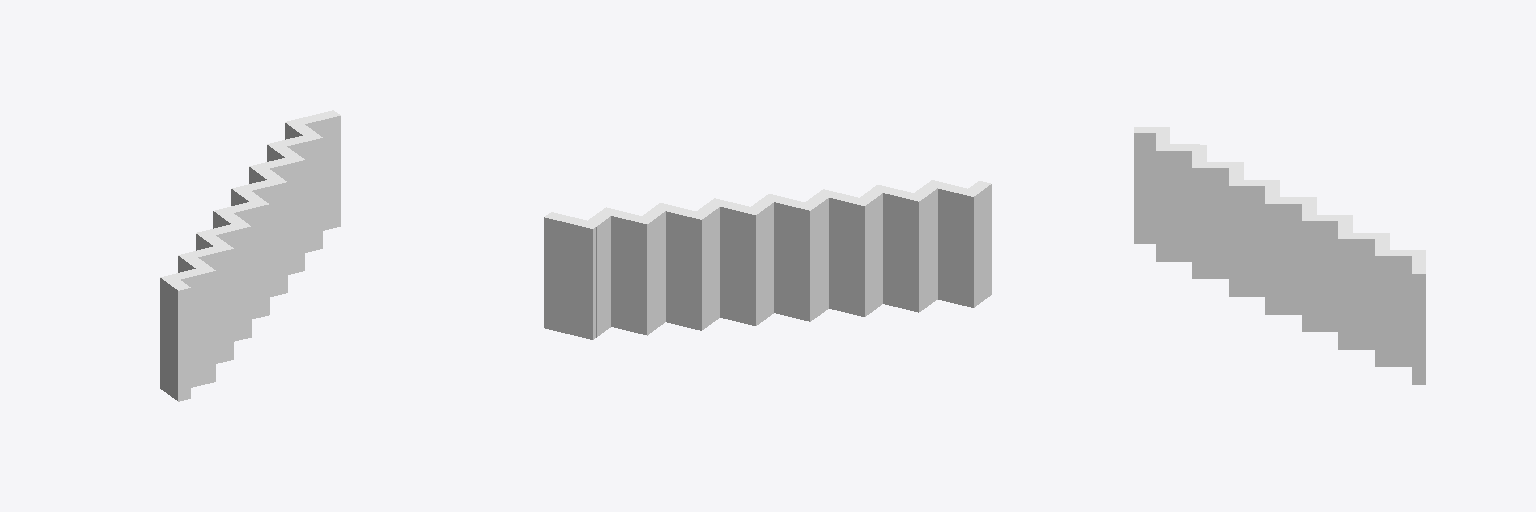
The model's file is Treppenstuffe8.obj.
The picture shows the model from 3 angles: view 1: azimuth 30°, elevation 25°; view 2: azimuth 150°, elevation 25°; view 3: azimuth 270°, elevation 25°; orthographic projection.
Parts seen in each view (by area): view 1: wall_2_10, wall_1_3, wall_9_52, wall_12_70, wall_7_40, wall_19_112, wall_4_22, wall_17_100, wall_14_82, wall_1_4; view 2: wall_19_111, wall_17_99, wall_2_9, wall_4_21, wall_9_51, wall_14_81, wall_7_39, wall_12_69, wall_16_93, wall_1_3, wall_6_33, wall_11_63 (+4 smaller); view 3: wall_1_4, wall_3_16, wall_6_34, wall_8_46, wall_11_64, wall_13_76, wall_16_94, wall_18_106, wall_4_22, wall_9_52, wall_14_82, wall_17_99 (+12 smaller).
Boxes of the visible parts, x1=… form: wall_2_10: x1=181, y1=271, x2=215, y2=387; wall_1_3: x1=160, y1=278, x2=184, y2=401; wall_9_52: x1=234, y1=204, x2=269, y2=318; wall_12_70: x1=252, y1=182, x2=287, y2=296; wall_7_40: x1=216, y1=226, x2=251, y2=341; wall_19_112: x1=305, y1=116, x2=340, y2=230; wall_4_22: x1=198, y1=249, x2=233, y2=363; wall_17_100: x1=287, y1=138, x2=322, y2=252; wall_14_82: x1=270, y1=160, x2=304, y2=274; wall_1_4: x1=185, y1=288, x2=190, y2=399; wall_19_111: x1=544, y1=217, x2=592, y2=339; wall_17_99: x1=611, y1=216, x2=646, y2=334; wall_2_9: x1=938, y1=189, x2=973, y2=307; wall_4_21: x1=883, y1=193, x2=918, y2=312; wall_9_51: x1=774, y1=202, x2=809, y2=321; wall_14_81: x1=666, y1=211, x2=701, y2=330; wall_7_39: x1=829, y1=198, x2=864, y2=316; wall_12_69: x1=720, y1=207, x2=755, y2=325; wall_16_93: x1=647, y1=211, x2=665, y2=335; wall_1_3: x1=974, y1=184, x2=991, y2=307; wall_6_33: x1=865, y1=193, x2=882, y2=316; wall_11_63: x1=756, y1=203, x2=773, y2=325; wall_1_4: x1=1134, y1=133, x2=1155, y2=243; wall_3_16: x1=1170, y1=151, x2=1191, y2=261; wall_6_34: x1=1207, y1=168, x2=1228, y2=278; wall_8_46: x1=1243, y1=186, x2=1264, y2=296; wall_11_64: x1=1280, y1=204, x2=1301, y2=314; wall_13_76: x1=1316, y1=221, x2=1337, y2=331; wall_16_94: x1=1353, y1=239, x2=1374, y2=349; wall_18_106: x1=1390, y1=256, x2=1411, y2=366; wall_4_22: x1=1192, y1=168, x2=1199, y2=278; wall_9_52: x1=1265, y1=204, x2=1272, y2=314; wall_14_82: x1=1338, y1=239, x2=1345, y2=349; wall_17_99: x1=1382, y1=256, x2=1389, y2=366.
Bounding box in the file's own units: 284 × 100 × 239.